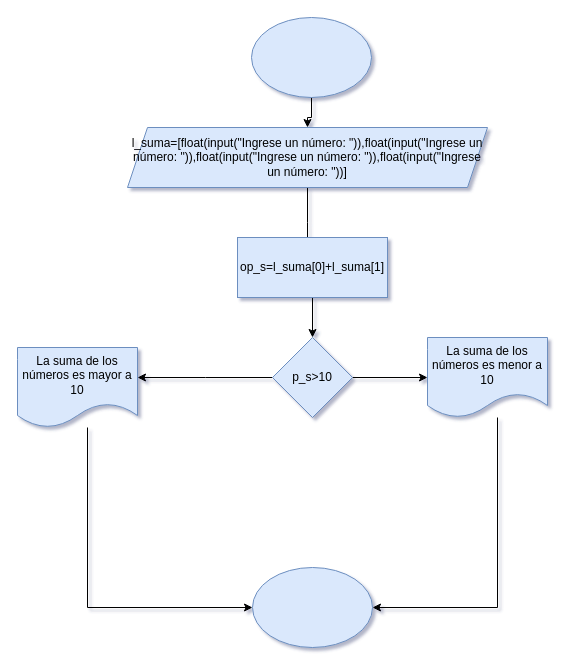
Some shapes in this 571 by 671 pixel diagram are drawn without their labels. The shapes that lost their labels are listed below. From the top down, each one's centre as x and y in pixels, then its label:
the point at 311,57: Inicio
the point at 312,607: Fin
